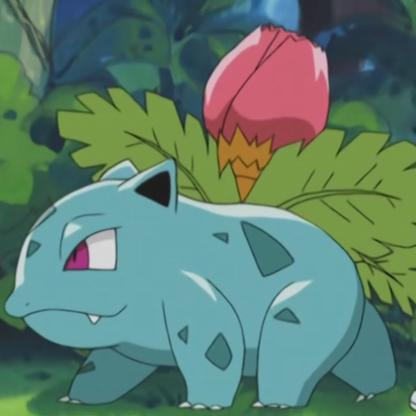Ivysaur: (17, 19, 416, 416)
